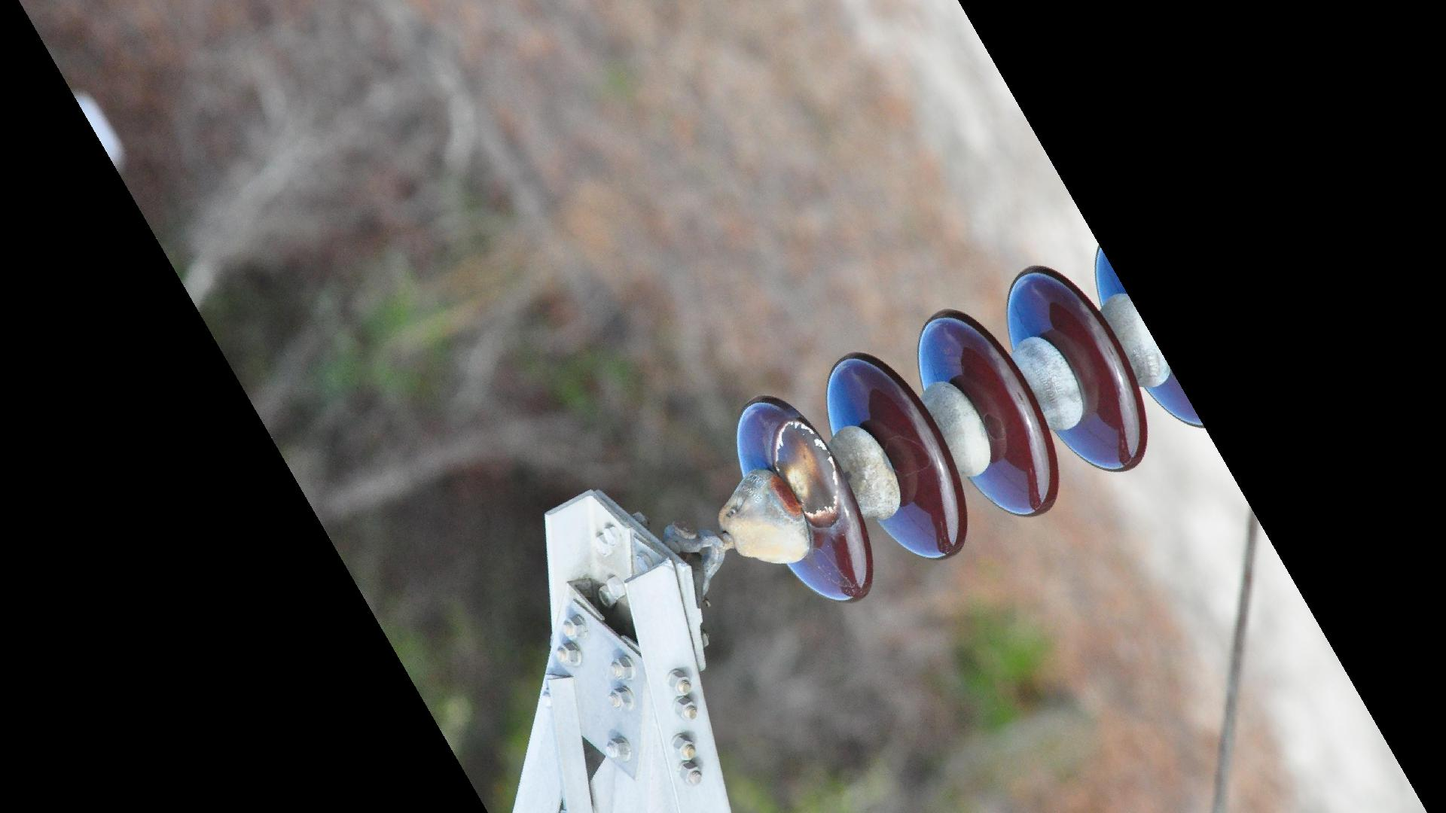insulator: (728, 243, 1207, 611)
insulator_flashover: (769, 417, 843, 519)
